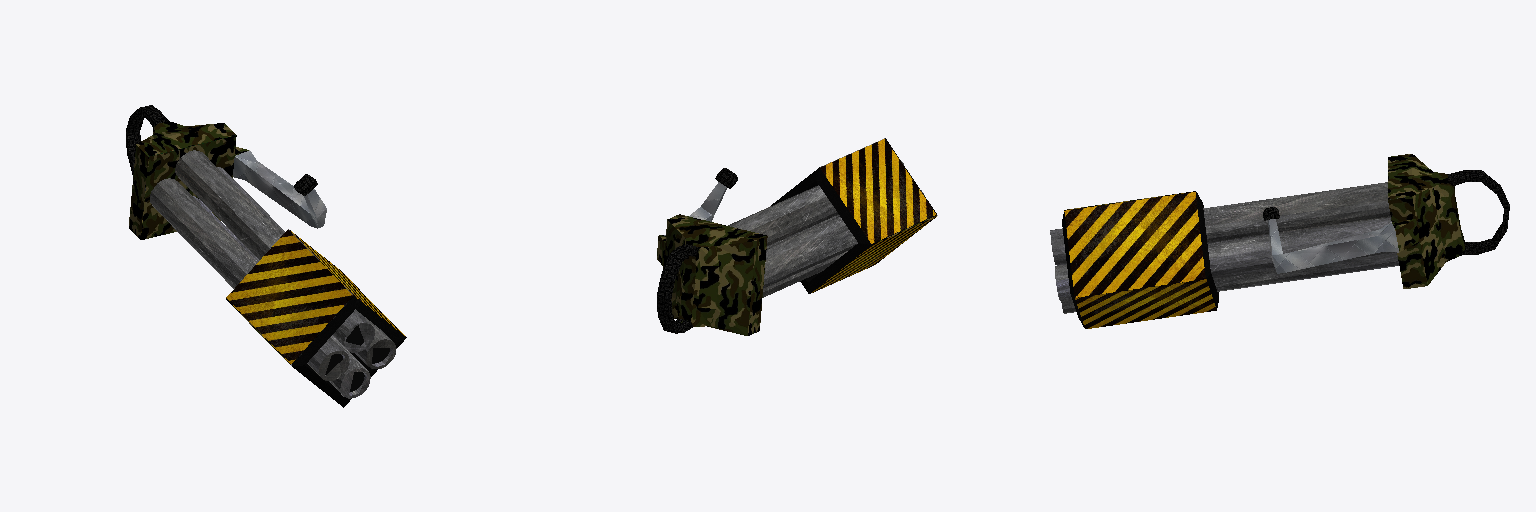
3 renders of one model, left to right at view 1: azimuth 30°, elevation 25°; view 2: azimuth 150°, elevation 25°; view 3: azimuth 270°, elevation 25°, orthographic.
Visible parts, largest first — view 1: Cylinder.001, Cylinder.000_Cylinder.004, Cube; view 2: Cube, Cylinder.000_Cylinder.004, Cylinder.001; view 3: Cylinder.000_Cylinder.004, Cylinder.001, Cube.
Boxes of the visible parts, box(x1,y1,x2,y2) form: Cylinder.001: box(145, 150, 396, 398); Cylinder.000_Cylinder.004: box(226, 229, 406, 407); Cube: box(126, 105, 326, 239); Cube: box(657, 168, 767, 335); Cylinder.000_Cylinder.004: box(771, 138, 937, 293); Cylinder.001: box(728, 161, 924, 297); Cylinder.000_Cylinder.004: box(1062, 191, 1218, 328); Cylinder.001: box(1050, 182, 1404, 313); Cube: box(1263, 154, 1509, 288).
Size of the model in its own units: 1.75 by 1.94 by 5.17.
Materials: 3 (1 with a texture image).